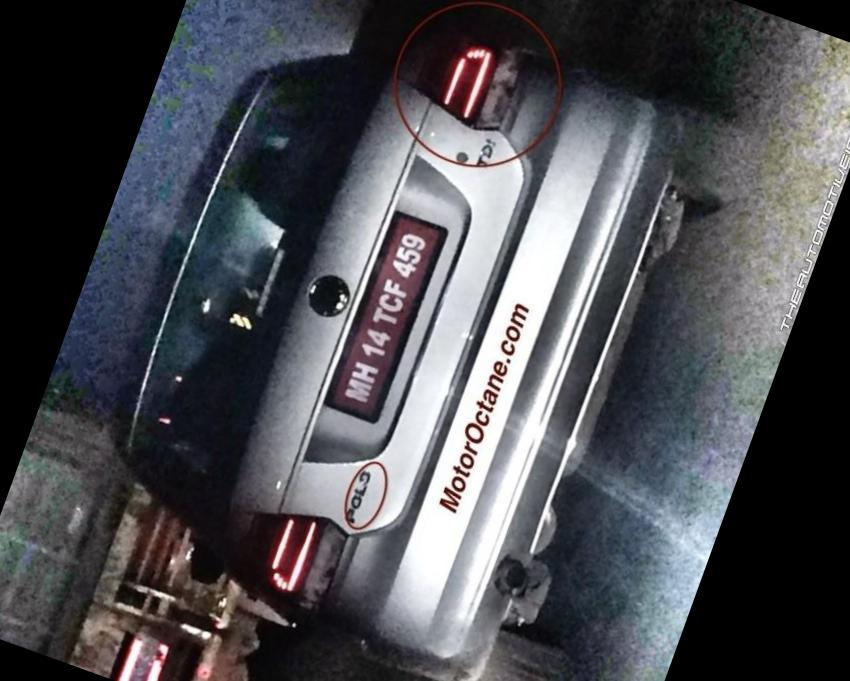plate: (315, 201, 448, 437)
